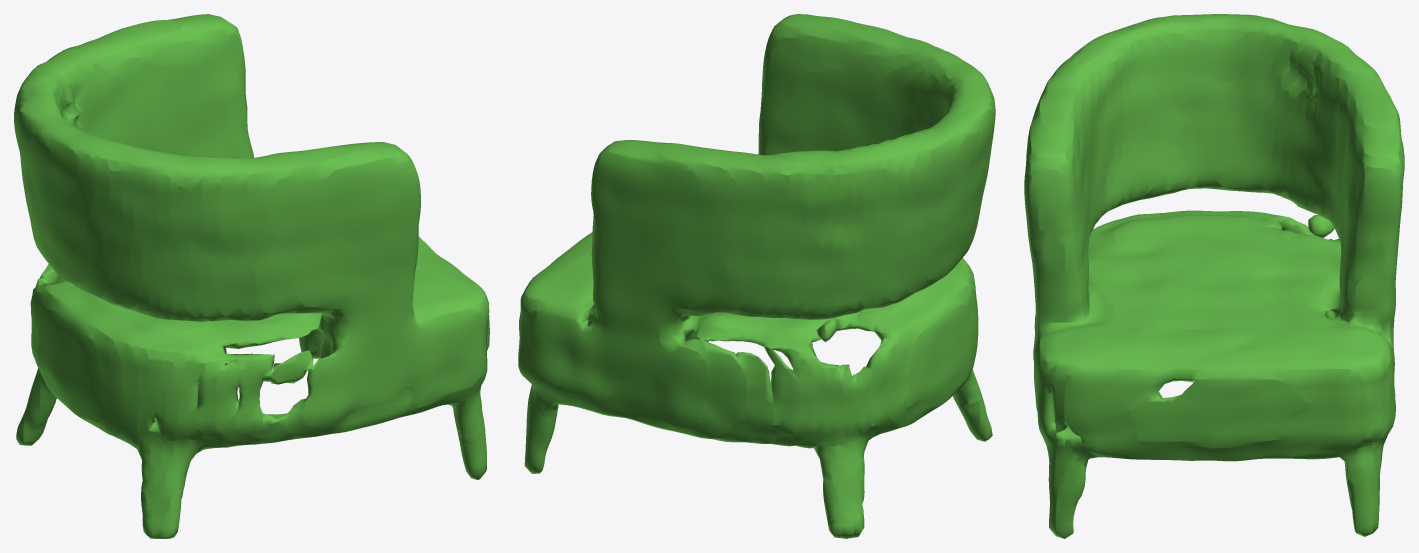
The model's file is chair_4_2.obj.
The picture shows the model from 3 angles, left to right: view 1: azimuth 30°, elevation 25°; view 2: azimuth 150°, elevation 25°; view 3: azimuth 270°, elevation 25°; orthographic projection. The views are drawn at different scales.
Size of the model in its own units: 0.7897 by 0.7515 by 0.7134.
